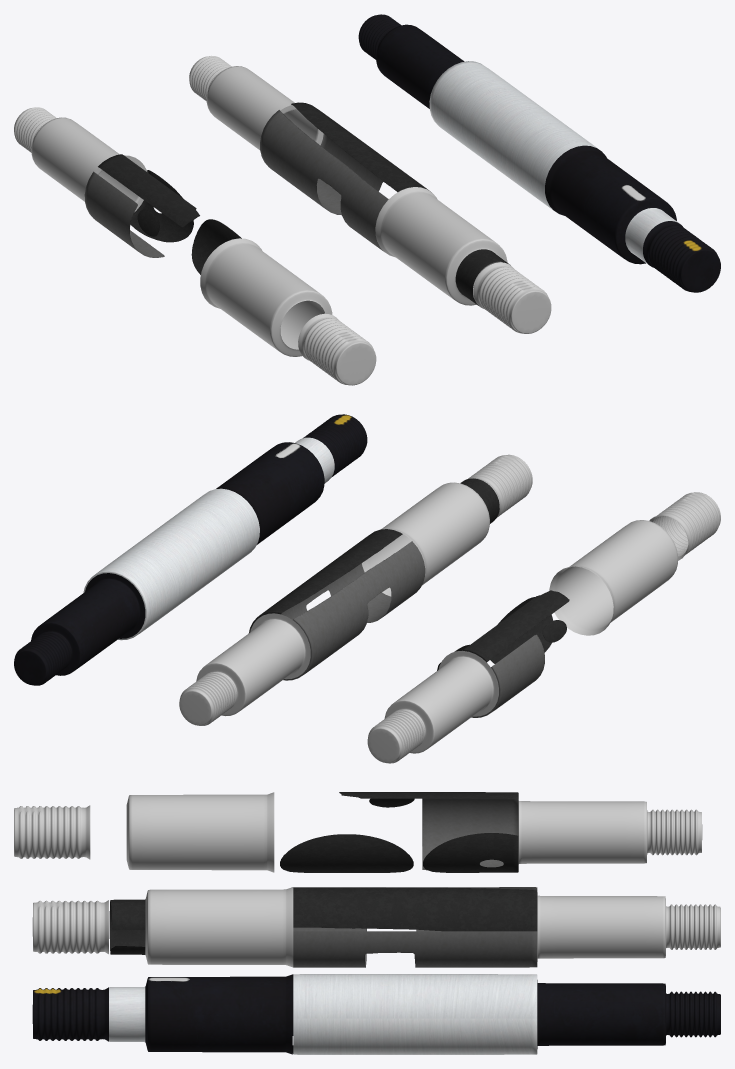
Rendered from Axel front1.fbx.
3 renders of one model, top to bottom at view 1: azimuth 30°, elevation 25°; view 2: azimuth 150°, elevation 25°; view 3: azimuth 270°, elevation 25°, orthographic. The views are drawn at different scales.
Parts seen in each view (by area): view 1: Cylinder.002, Cylinder, Cylinder.004, Cylinder.003; view 2: Cylinder.002, Cylinder, Cylinder.004, Cylinder.003; view 3: Cylinder.002, Cylinder, Cylinder.004, Cylinder.003.
Part boxes in pixels (x1,y1,x2,y2): Cylinder.002: (358, 14, 720, 292); Cylinder: (14, 107, 376, 385); Cylinder.004: (189, 56, 551, 333); Cylinder.003: (260, 102, 510, 305); Cylinder.002: (14, 414, 367, 685); Cylinder: (367, 492, 720, 763); Cylinder.004: (179, 454, 532, 725); Cylinder.003: (248, 478, 499, 680); Cylinder.002: (32, 974, 720, 1054); Cylinder: (14, 792, 702, 872); Cylinder.004: (32, 887, 720, 967); Cylinder.003: (109, 887, 537, 967).
Bounding box in the file's own units: 226 × 35.72 × 313.
